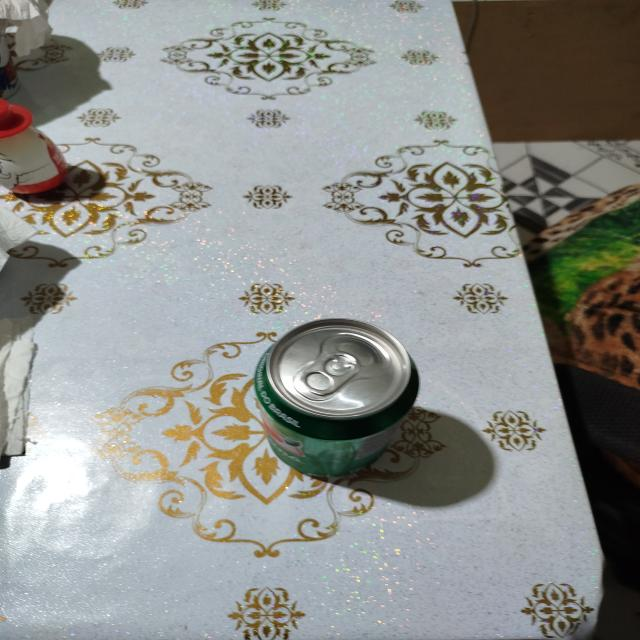Guarana: (251, 316, 421, 476)
